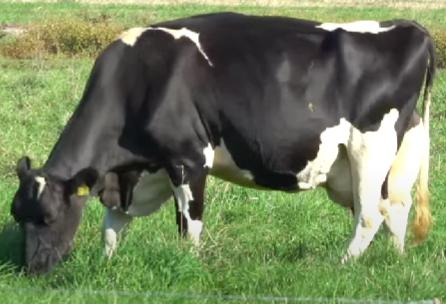cow: (10, 12, 436, 273)
